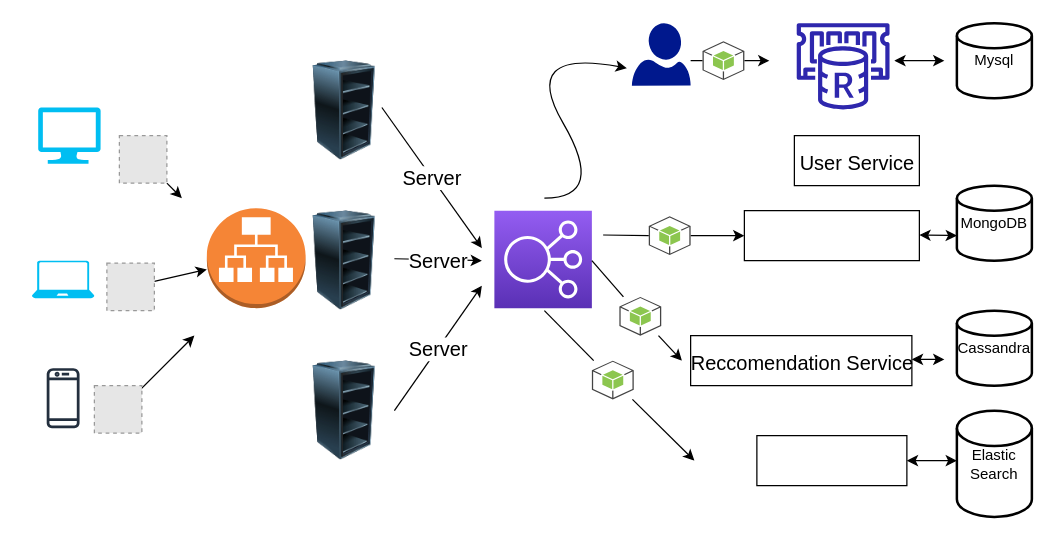
Some shapes in this 1055 by 539 pixel diagram are drawn without their labels. Grey dashed boxes stand in for pictures. The shapes that lost their labels are listed below. From the top down, each one's centre as x and y in pixels, then its label:
point 831,235: Product Service
point 62,397: Mobile client
point 831,460: Search Service
